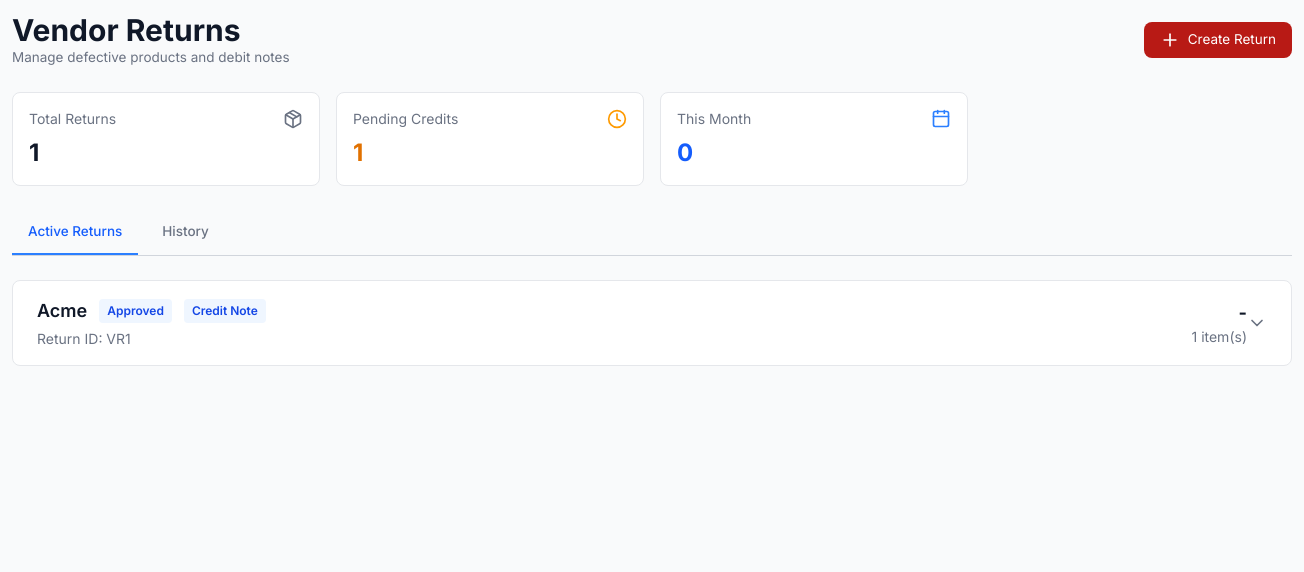
Scenario: VendorReturns money display › renders a masked return (no prices) with dashes, never a rupee figure
Click the heading "Acme": [62, 311] box x1=37 y1=297 x2=87 y2=325
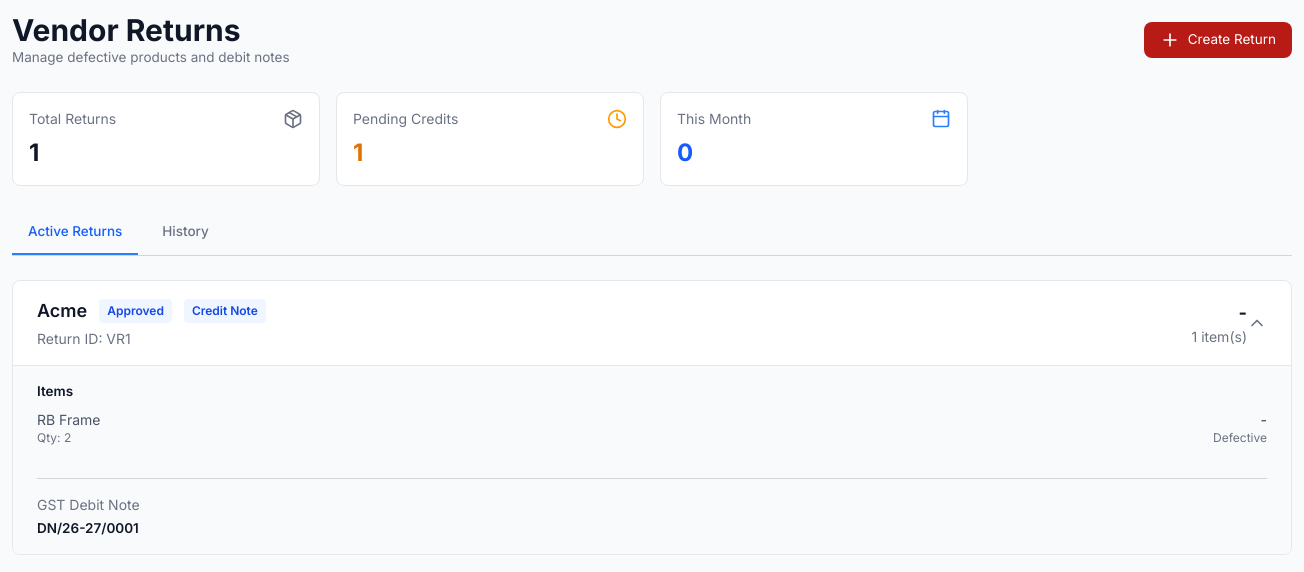
Expected: the text "RB Frame" is shown, x1=37 y1=410 x2=100 y2=430
Expected: the text "Qty: 2" is shown, x1=37 y1=430 x2=71 y2=445
Expected: the text "DN/26-27/0001" is shown, x1=37 y1=519 x2=140 y2=538
